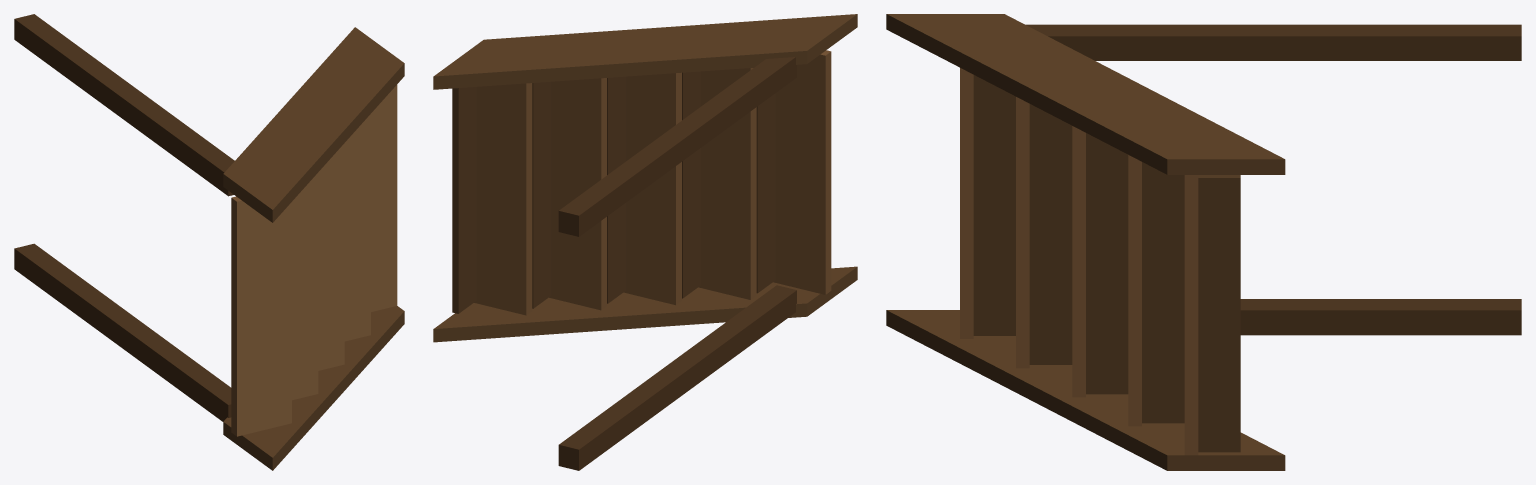
The model's file is stairs-middle.obj.
3 views of the same model, side by side, from view 1: azimuth 30°, elevation 25°; view 2: azimuth 150°, elevation 25°; view 3: azimuth 270°, elevation 25° (orthographic). The views are drawn at different scales.
Bounding box in the file's own units: 1.02 × 1 × 1.85.
1 material, 1 textured.
